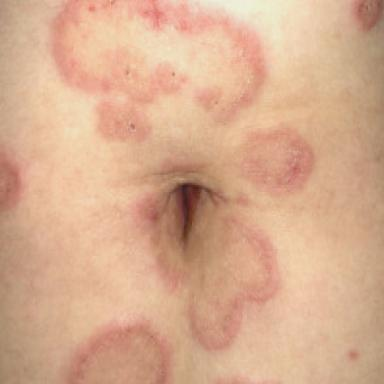Tinea-Corporis: (52, 2, 265, 141), (145, 184, 278, 349), (67, 319, 172, 383), (241, 127, 313, 194), (353, 0, 383, 31)
